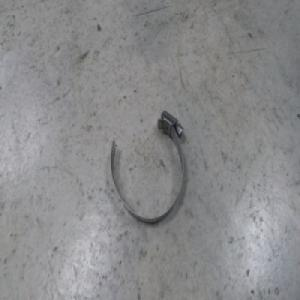AdjustableClamp: (109, 109, 187, 229)
